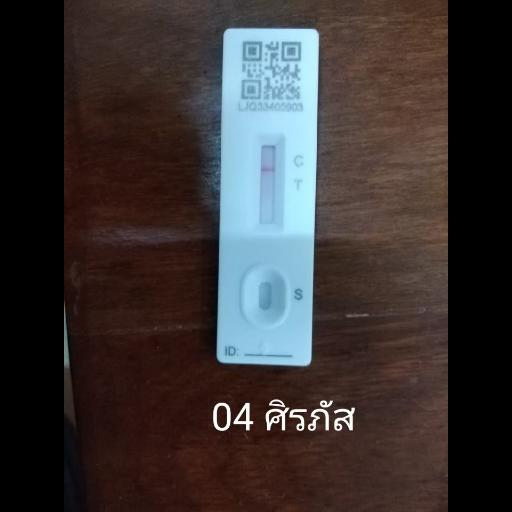Neg: (220, 28, 318, 366)
